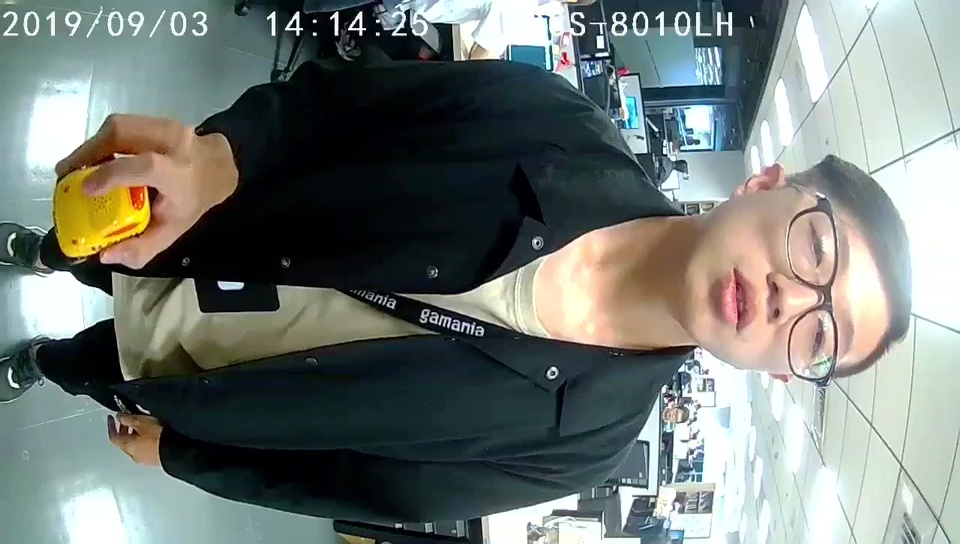car: (54, 161, 151, 257)
